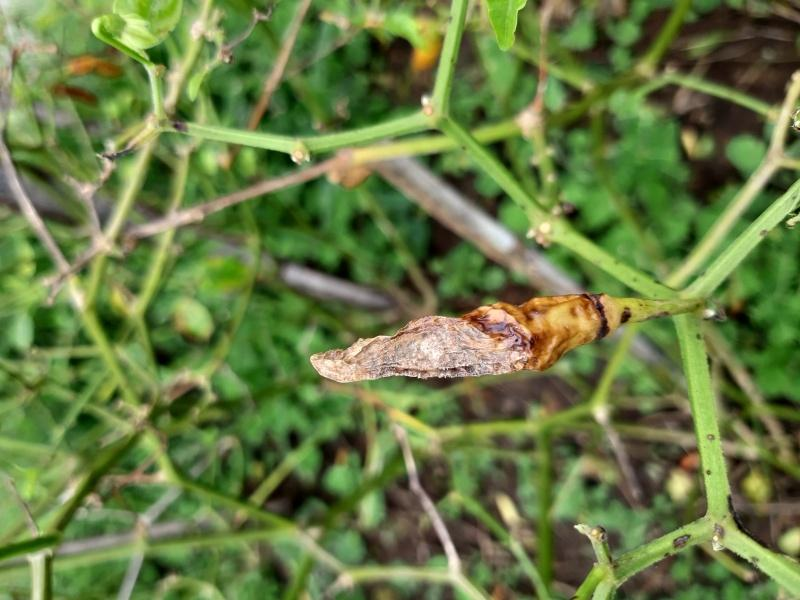antraknosa: (308, 292, 608, 384)
